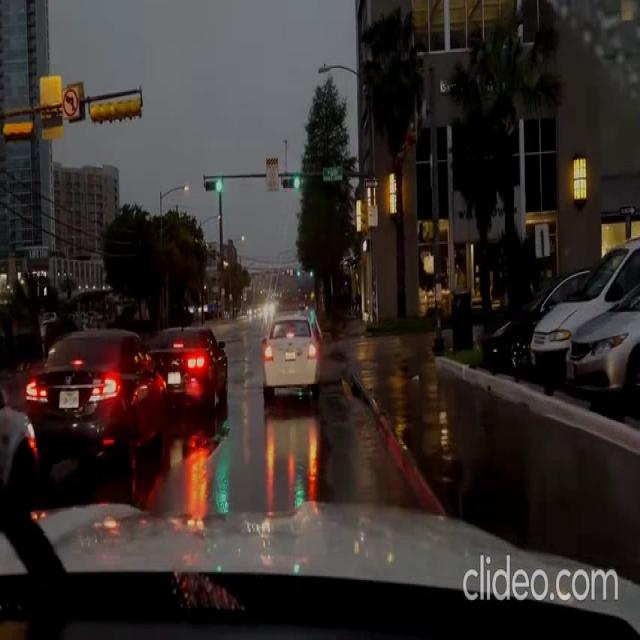Car: (23, 324, 168, 504), (528, 233, 639, 379), (477, 266, 594, 380), (561, 276, 637, 404), (152, 325, 227, 433), (261, 310, 322, 404)
